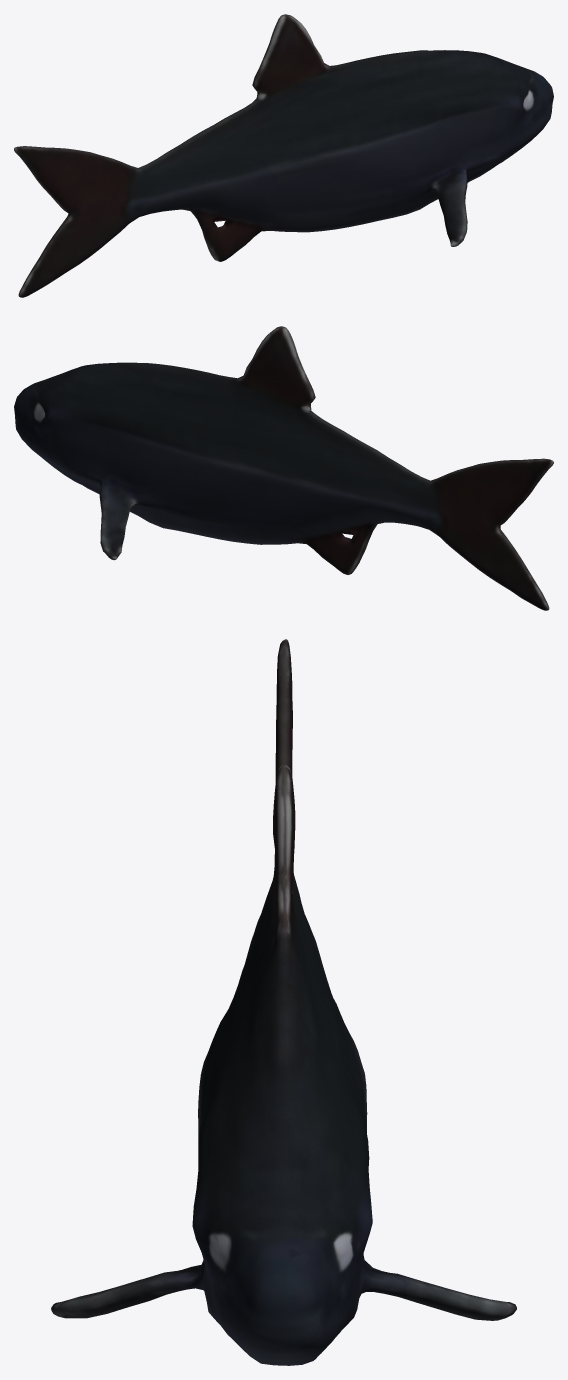
Rendered from fish_12.glb.
The picture shows the model from 3 angles, top to bottom: view 1: azimuth 30°, elevation 25°; view 2: azimuth 150°, elevation 25°; view 3: azimuth 270°, elevation 25°; orthographic projection. The views are drawn at different scales.
Visible parts, largest first — view 1: mesh; view 2: mesh; view 3: mesh.
Part boxes in pixels (<box>): mesh: <box>14,14,553,297</box>; mesh: <box>14,326,553,610</box>; mesh: <box>51,639,516,1365</box>.
Size of the model in its own units: 0.9977 by 0.4112 by 0.3758.
Materials: 1 (1 with a texture image).
